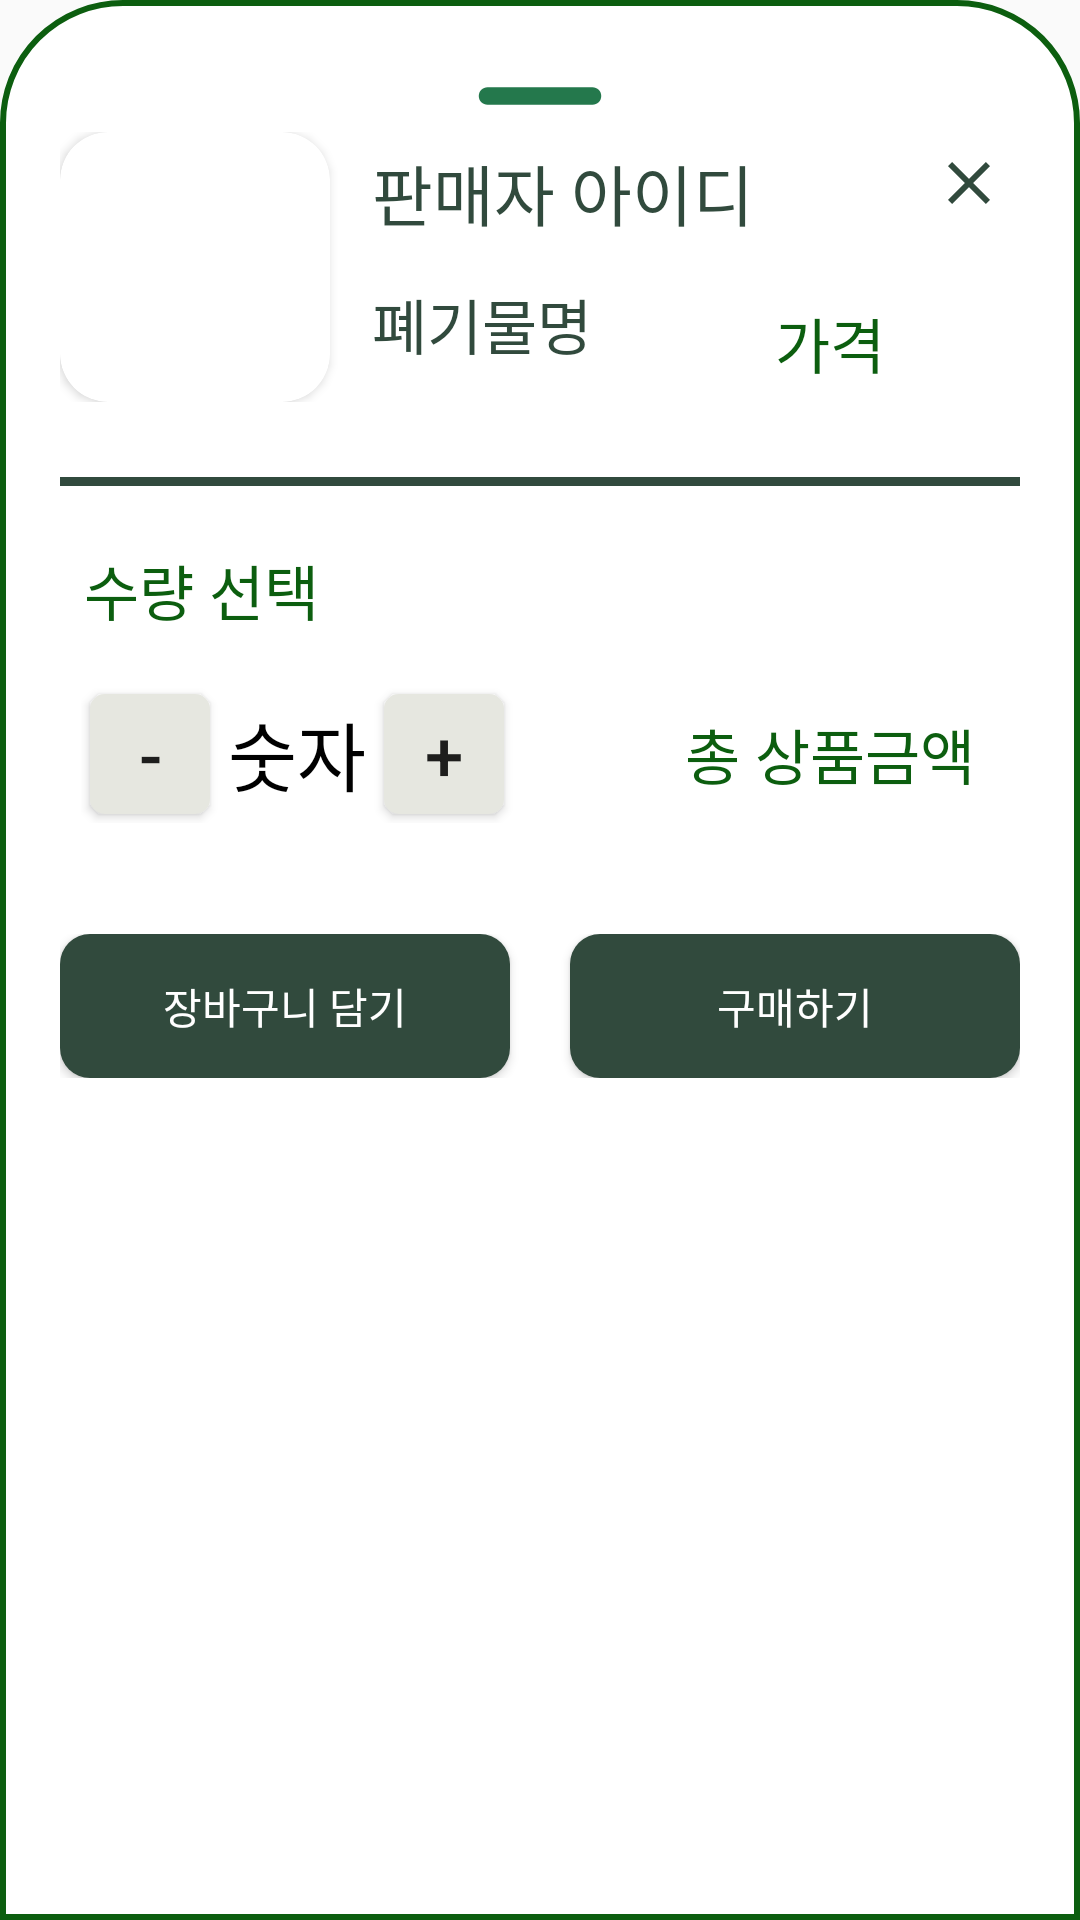

Screen size 1080 × 1920. Icon name, then its box in pixels as (x1, y1, x2, y2):
clear: (948, 162, 990, 204)
